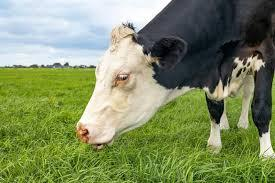cow: (77, 0, 275, 159)
